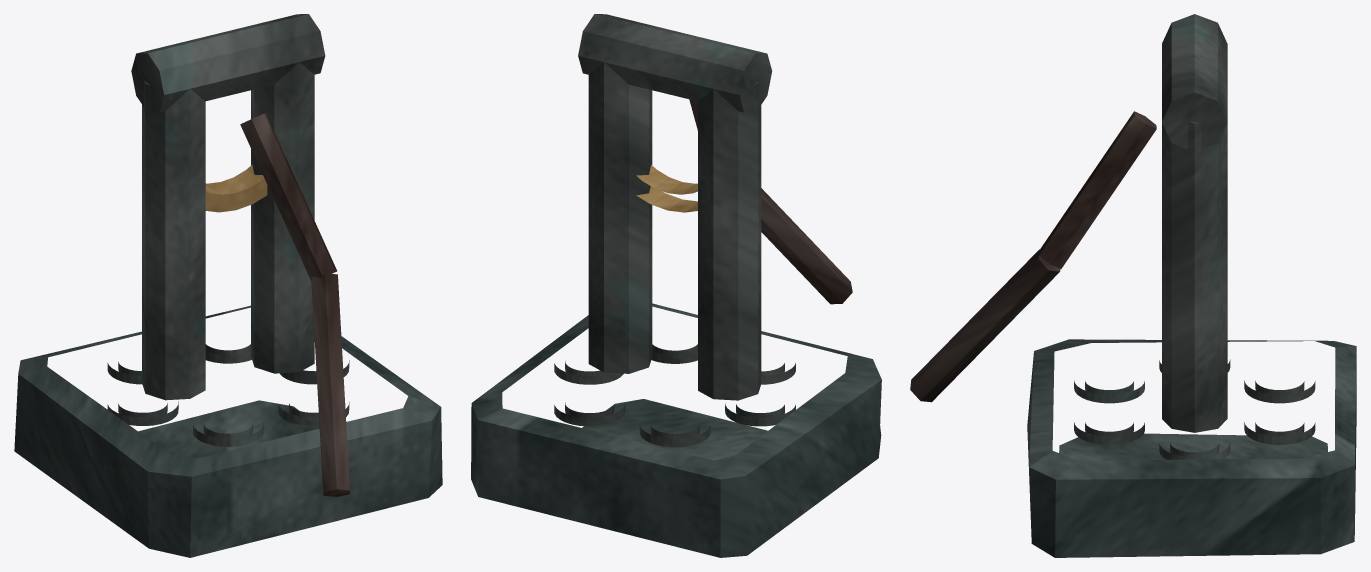
Rendered from 0693_rope_anchor_18.glb.
3 renders of one model, left to right at view 1: azimuth 30°, elevation 25°; view 2: azimuth 150°, elevation 25°; view 3: azimuth 270°, elevation 25°, orthographic.
Visible parts, largest first — view 1: iron, stone_dark, wood_dark, brass; view 2: iron, stone_dark, wood_dark, brass; view 3: stone_dark, iron, wood_dark.
Part boxes in pixels (bbox=[...]): iron: bbox=[107, 14, 349, 446]; stone_dark: bbox=[14, 305, 442, 557]; wood_dark: bbox=[240, 113, 349, 496]; brass: bbox=[205, 164, 267, 212]; iron: bbox=[554, 14, 795, 447]; stone_dark: bbox=[471, 303, 881, 557]; wood_dark: bbox=[689, 99, 852, 304]; brass: bbox=[636, 164, 697, 212]; stone_dark: bbox=[1027, 339, 1356, 557]; iron: bbox=[1074, 14, 1315, 459]; wood_dark: bbox=[910, 111, 1156, 402].
Bounding box in the file's own units: 1.21 × 1.78 × 1.63.
Materials: 4 (4 with a texture image).
